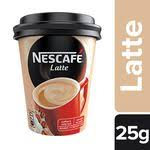nescafe-cappe: (13, 11, 99, 138)
